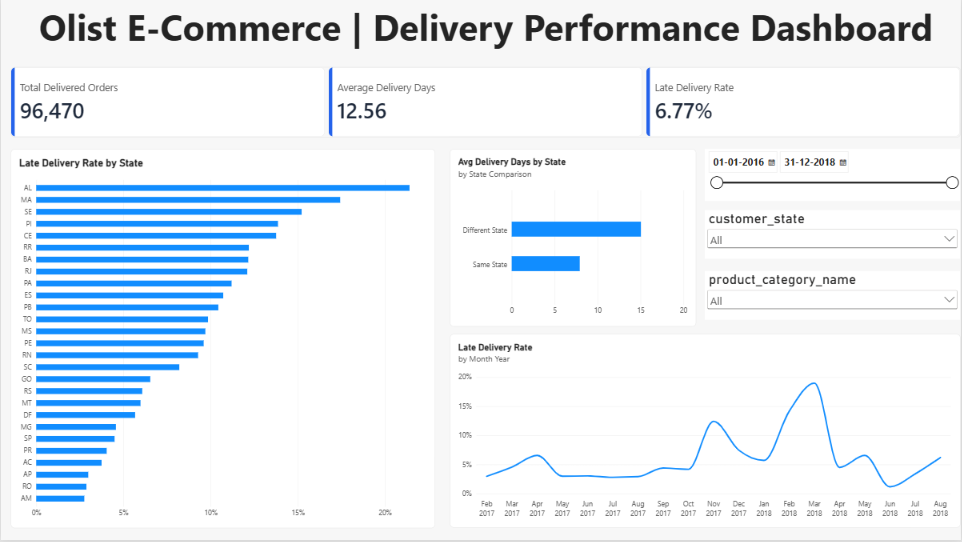

What the dashboard file says about the page in this screenshot:
{"tool":"powerbi","page":{"name":"Delivery Performance","canvas":[1920,1080],"ordinal":0},"visuals":[{"type":"cardVisual","fields":{"Data":["All Measures.Total Delivered Orders","All Measures.Average Delivery Days","All Measures.Late Delivery Rate"]},"box":[20.1,134,1900.1,140.7],"z":0},{"type":"clusteredBarChart","title":"Late Delivery Rate by State","fields":{"Category":["public customers.customer_state"],"Y":["All Measures.Late Delivery Rate"]},"box":[20.1,298.1,849.2,758.8],"z":1},{"type":"clusteredBarChart","fields":{"Category":["public order_items.State Comparison"],"Y":["All Measures.Avg Delivery Days by State"]},"box":[897.8,298.1,492.4,355.1],"z":2},{"type":"lineChart","fields":{"Category":["Calendar.Month Year"],"Y":["All Measures.Late Delivery Rate"]},"box":[898.1,668.7,1021.5,387.4],"z":3},{"type":"textbox","box":[19.2,4.3,1900.8,104.5],"z":4},{"type":"slicer","fields":{"Values":["Calendar.Date"]},"box":[1408.9,298.7,510.7,103.9],"z":5},{"type":"slicer","fields":{"Values":["public customers.customer_state"]},"box":[1408.9,419.8,510.7,97.4],"z":6},{"type":"slicer","fields":{"Values":["public product_category_translation.product_category_name_english"]},"box":[1408.9,541,510.7,97.4],"z":7}]}

Visuals, with their boxes in screenshot pixels (x1, y1, x2, y2), scaled from the page's 1920x1080 canvas onto the 962x542 screenshot:
cardVisual - All Measures.Total Delivered Orders x All Measures.Average Delivery Days: Rect(10, 67, 961, 138)
"Late Delivery Rate by State" clusteredBarChart: Rect(10, 150, 436, 530)
clusteredBarChart - public order_items.State Comparison x All Measures.Avg Delivery Days by State: Rect(450, 150, 697, 328)
lineChart - Calendar.Month Year x All Measures.Late Delivery Rate: Rect(450, 336, 961, 530)
textbox: Rect(10, 2, 961, 55)
slicer - Calendar.Date: Rect(706, 150, 961, 202)
slicer - public customers.customer_state: Rect(706, 211, 961, 260)
slicer - public product_category_translation.product_category_name_english: Rect(706, 272, 961, 320)
